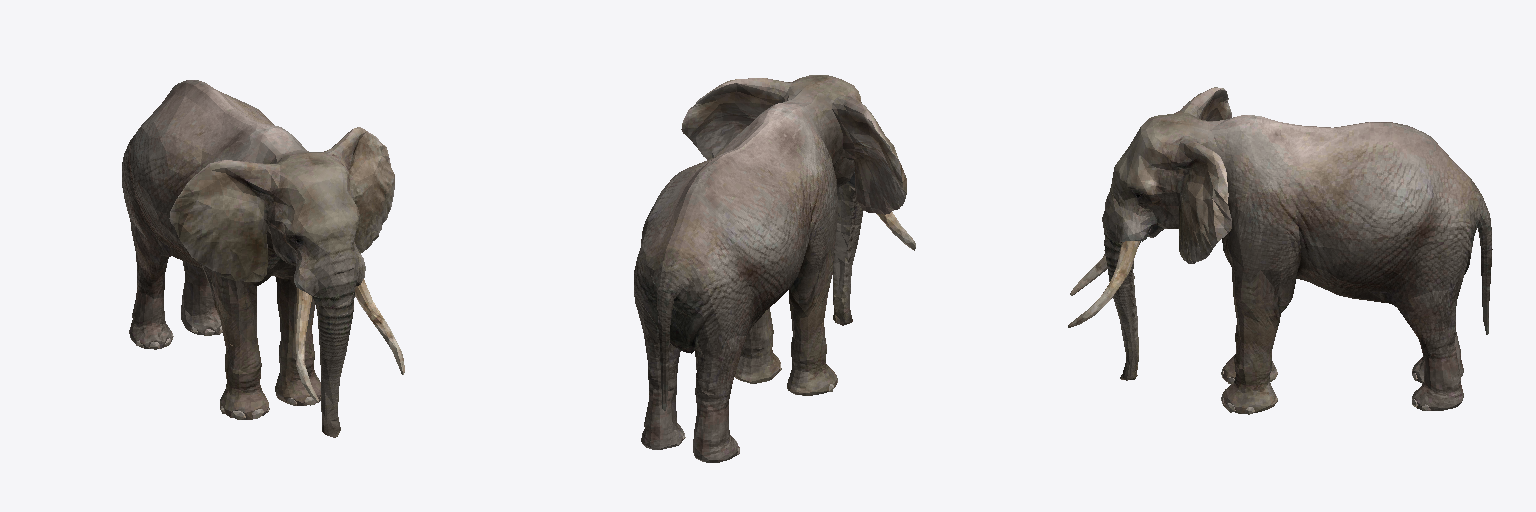
3 renders of one model, left to right at view 1: azimuth 30°, elevation 25°; view 2: azimuth 150°, elevation 25°; view 3: azimuth 270°, elevation 25°, orthographic.
Parts seen in each view (by area): view 1: Object_9; view 2: Object_9; view 3: Object_9.
Boxes of the visible parts, <box> form: Object_9: <box>122,80,404,437</box>; Object_9: <box>634,75,915,462</box>; Object_9: <box>1068,87,1492,414</box>.
Size of the model in its own units: 0.0277 by 0.0328 by 0.0461.
1 materials, 1 textured.